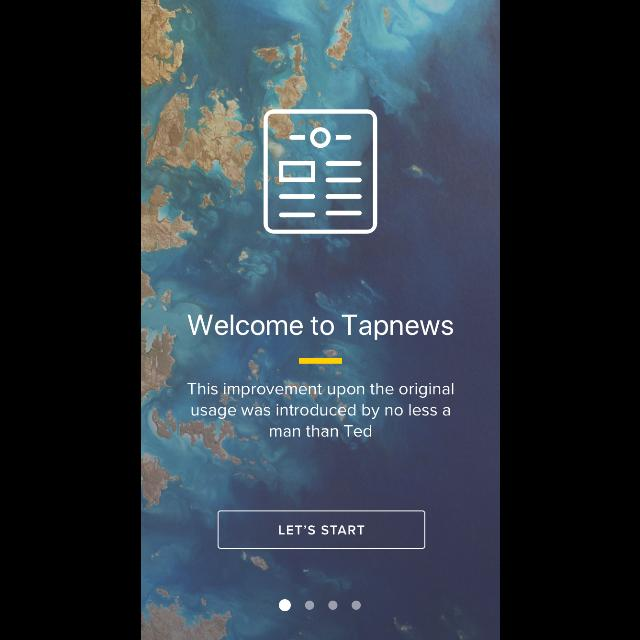backgroundimage: (140, 1, 500, 640)
image: (263, 110, 377, 234)
pageindicator: (278, 598, 360, 612)
text: (186, 382, 454, 436), (187, 314, 453, 340)
textbutton: (217, 510, 425, 550)
